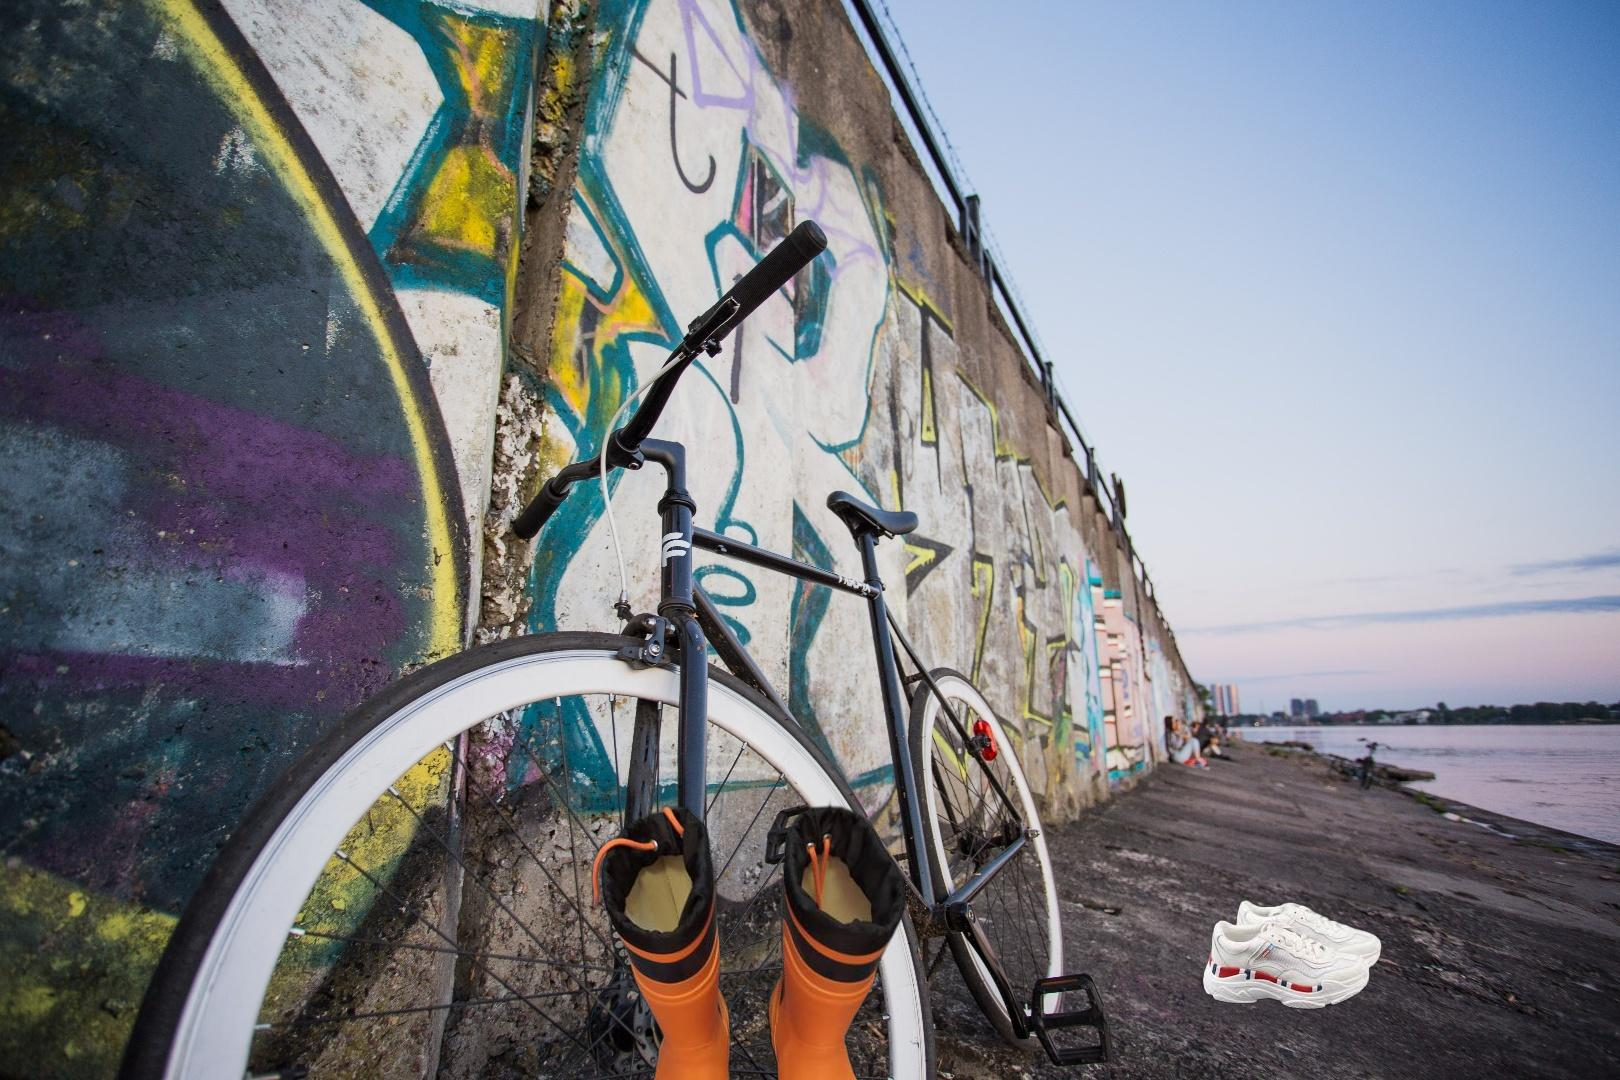shoes: (565, 797, 909, 1080), (1201, 897, 1385, 1012)
